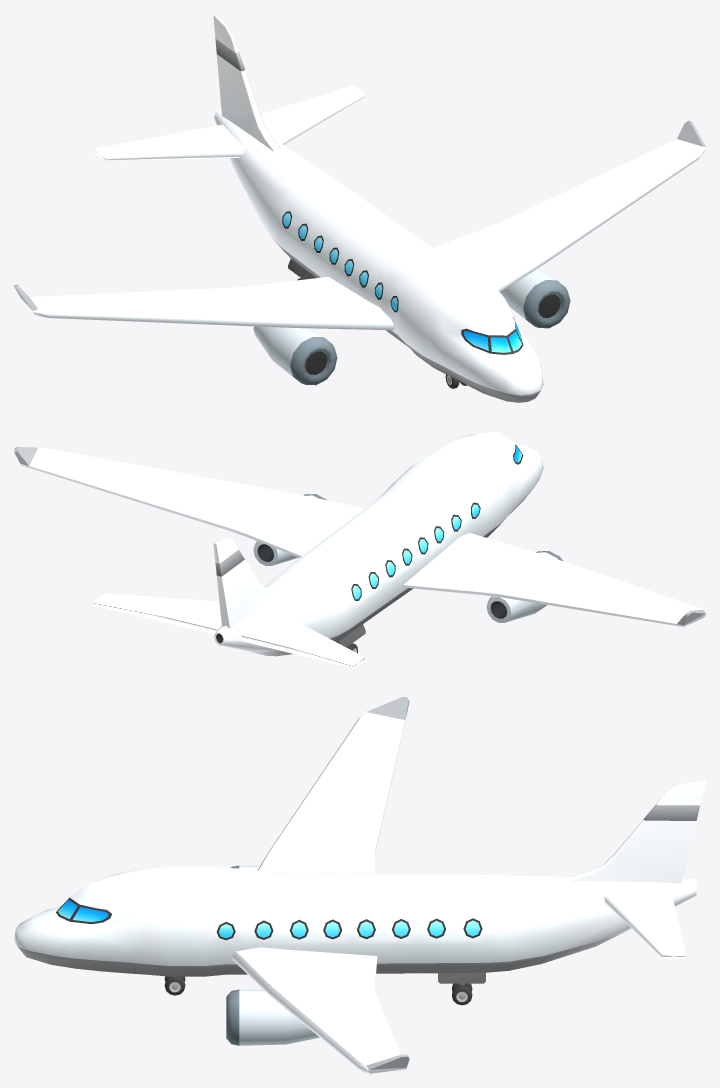
The picture shows the model from 3 angles, top to bottom: view 1: azimuth 30°, elevation 25°; view 2: azimuth 150°, elevation 25°; view 3: azimuth 270°, elevation 25°; orthographic projection. The views are drawn at different scales.
Parts seen in each view (by area): view 1: Plane_02; view 2: Plane_02; view 3: Plane_02.
Part boxes in pixels (left/top/right/bottom): Plane_02: left=14, top=14, right=705, bottom=402; Plane_02: left=14, top=431, right=705, bottom=668; Plane_02: left=14, top=697, right=705, bottom=1073.
Size of the model in its own units: 26.92 by 7.37 by 21.88.
Materials: 1 (1 with a texture image).
